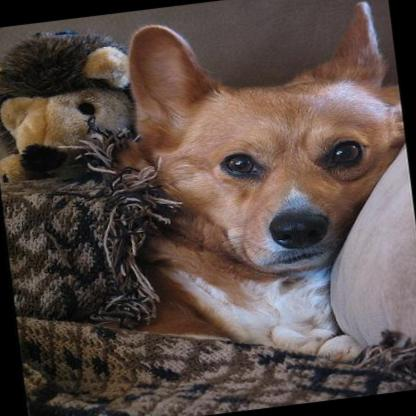Pembroke: (88, 0, 416, 390)
